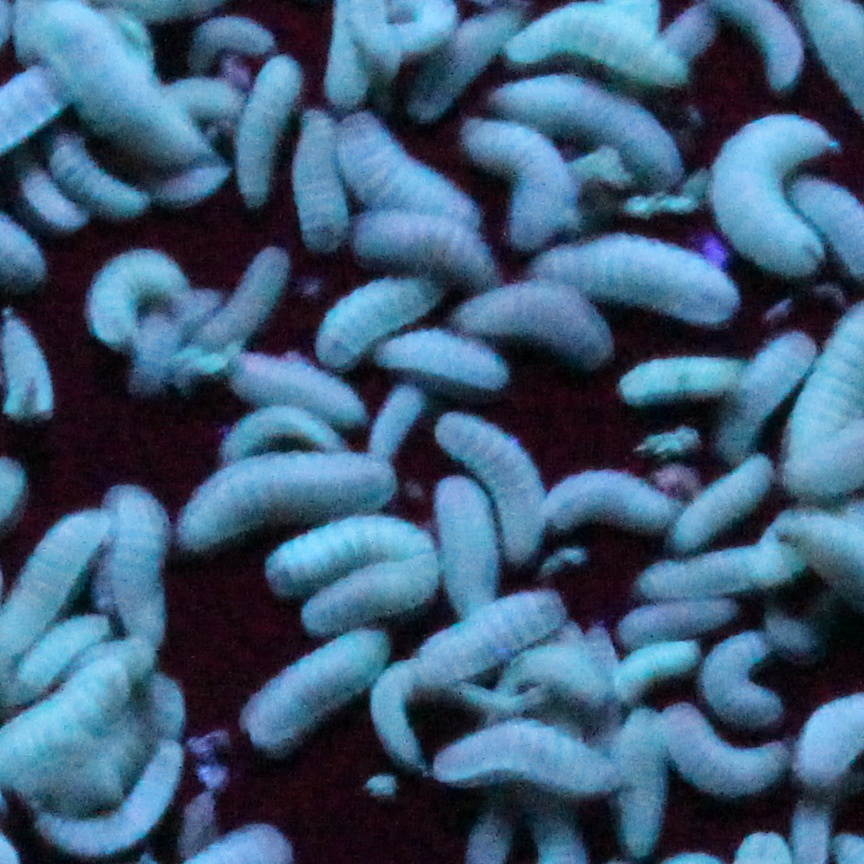larve: (41, 1, 209, 164), (703, 104, 834, 283), (178, 441, 389, 546), (529, 232, 743, 324), (236, 623, 376, 761), (499, 68, 678, 175), (336, 106, 490, 230), (441, 403, 561, 555), (49, 741, 187, 859), (430, 714, 616, 797), (445, 283, 616, 368), (659, 706, 807, 804), (101, 477, 183, 648), (416, 3, 527, 123), (416, 590, 561, 677), (347, 208, 503, 288), (470, 117, 565, 248), (261, 515, 425, 590), (710, 334, 809, 452), (365, 324, 520, 399), (670, 446, 779, 550), (229, 48, 298, 206), (81, 234, 180, 344), (323, 272, 450, 357), (227, 348, 369, 424), (634, 539, 819, 595), (310, 554, 436, 635), (200, 237, 290, 348), (547, 470, 690, 539), (689, 621, 783, 723), (45, 139, 156, 217), (478, 641, 610, 706), (294, 108, 352, 252), (614, 701, 663, 852), (367, 657, 429, 770), (603, 634, 701, 704), (620, 355, 758, 403), (440, 481, 490, 612), (616, 590, 738, 641), (178, 14, 281, 61)
